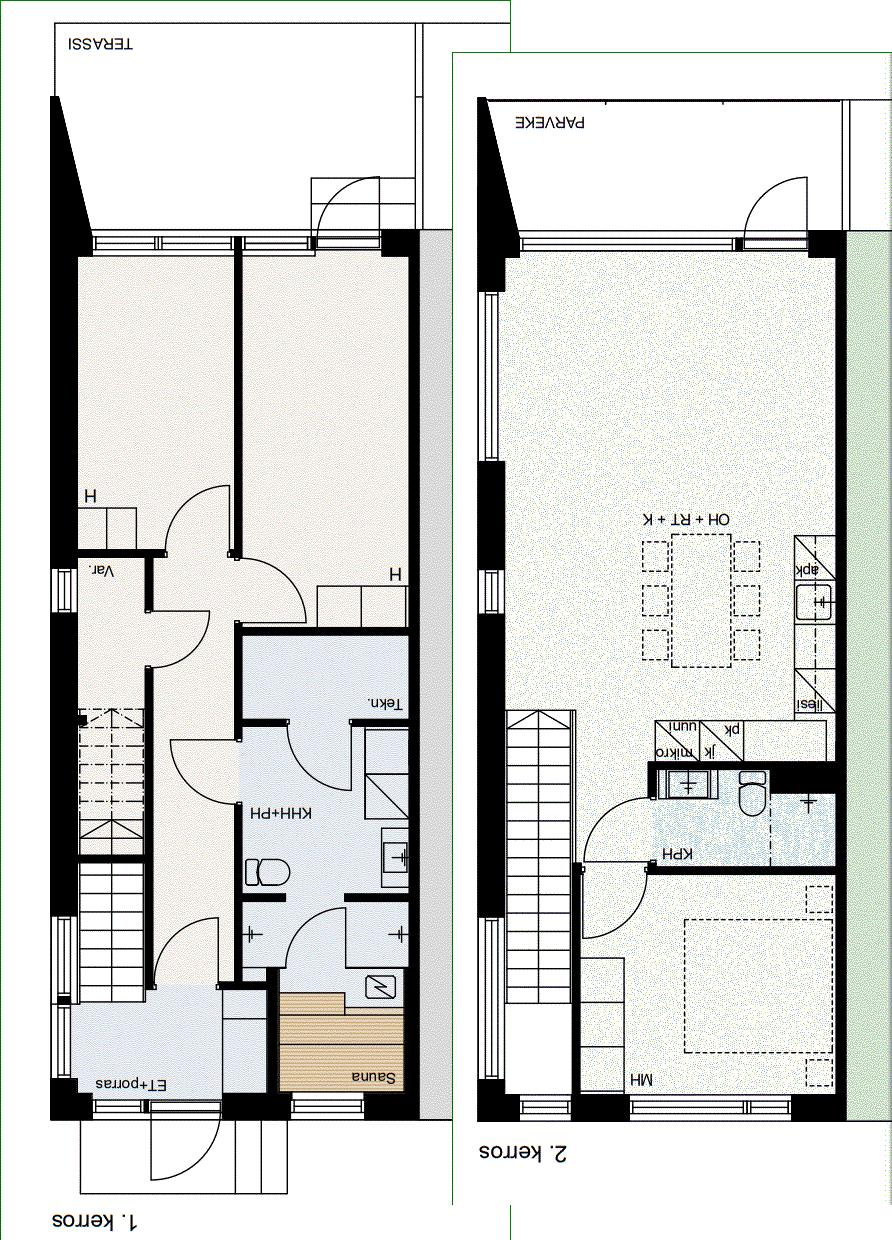bathroom: (243, 727, 411, 903), (654, 769, 774, 872)
door: (142, 1092, 224, 1183), (739, 173, 815, 252), (579, 859, 650, 942), (160, 481, 236, 557), (168, 735, 244, 811), (284, 717, 358, 795), (234, 552, 305, 631), (151, 916, 225, 988), (581, 792, 656, 859), (277, 905, 353, 969), (312, 179, 382, 247), (146, 605, 213, 671)
perimeter: (473, 225, 847, 1123), (50, 221, 420, 1122)
stairs: (507, 708, 572, 1005), (80, 708, 150, 861), (80, 863, 144, 1007)
window: (518, 221, 748, 257), (622, 1088, 800, 1130), (474, 909, 510, 1093), (474, 285, 506, 476), (89, 226, 237, 257), (46, 907, 75, 1005), (79, 1088, 153, 1126), (282, 1088, 370, 1119), (48, 995, 77, 1088), (474, 559, 512, 623), (234, 228, 312, 259), (42, 561, 79, 617), (513, 1092, 579, 1123)
